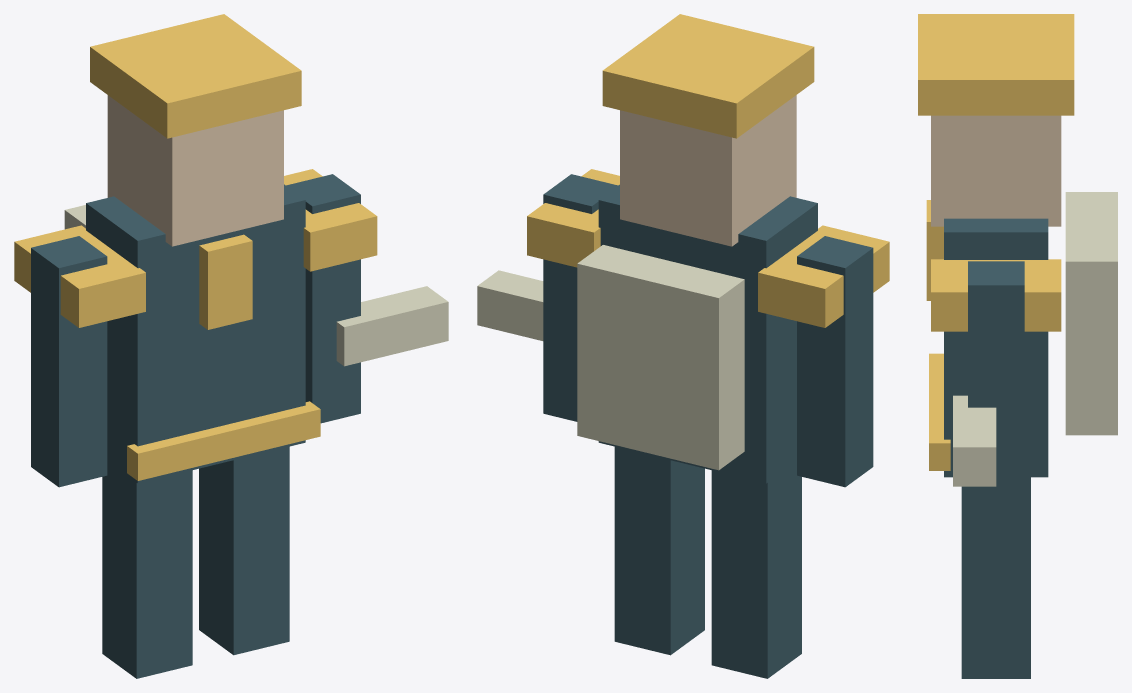
Rendered from 05_ren_gantryn_smith_at_veilwalk.glb.
3 renders of one model, left to right at view 1: azimuth 30°, elevation 25°; view 2: azimuth 150°, elevation 25°; view 3: azimuth 270°, elevation 25°, orthographic.
Visible parts, largest first — view 1: Ren Gantryn, Smith at Veilwalk; view 2: Ren Gantryn, Smith at Veilwalk; view 3: Ren Gantryn, Smith at Veilwalk.
Boxes of the visible parts, x1=… form: Ren Gantryn, Smith at Veilwalk: x1=14, y1=14, x2=448, y2=678; Ren Gantryn, Smith at Veilwalk: x1=477, y1=14, x2=889, y2=678; Ren Gantryn, Smith at Veilwalk: x1=918, y1=14, x2=1117, y2=678.
Size of the model in its own units: 1.1 by 1.61 by 0.4921.
